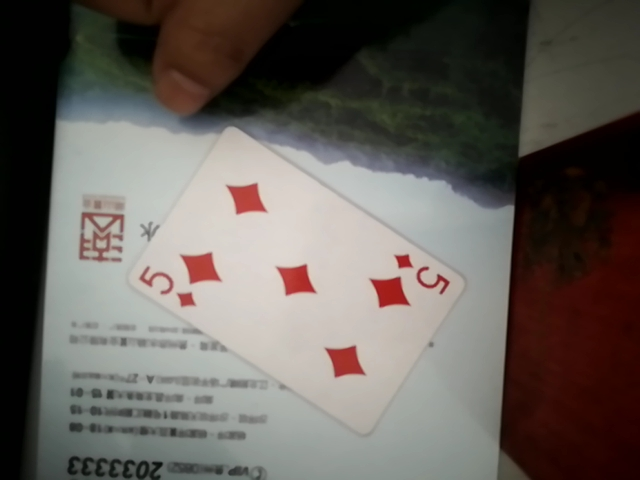fk 5: (117, 130, 481, 432)
